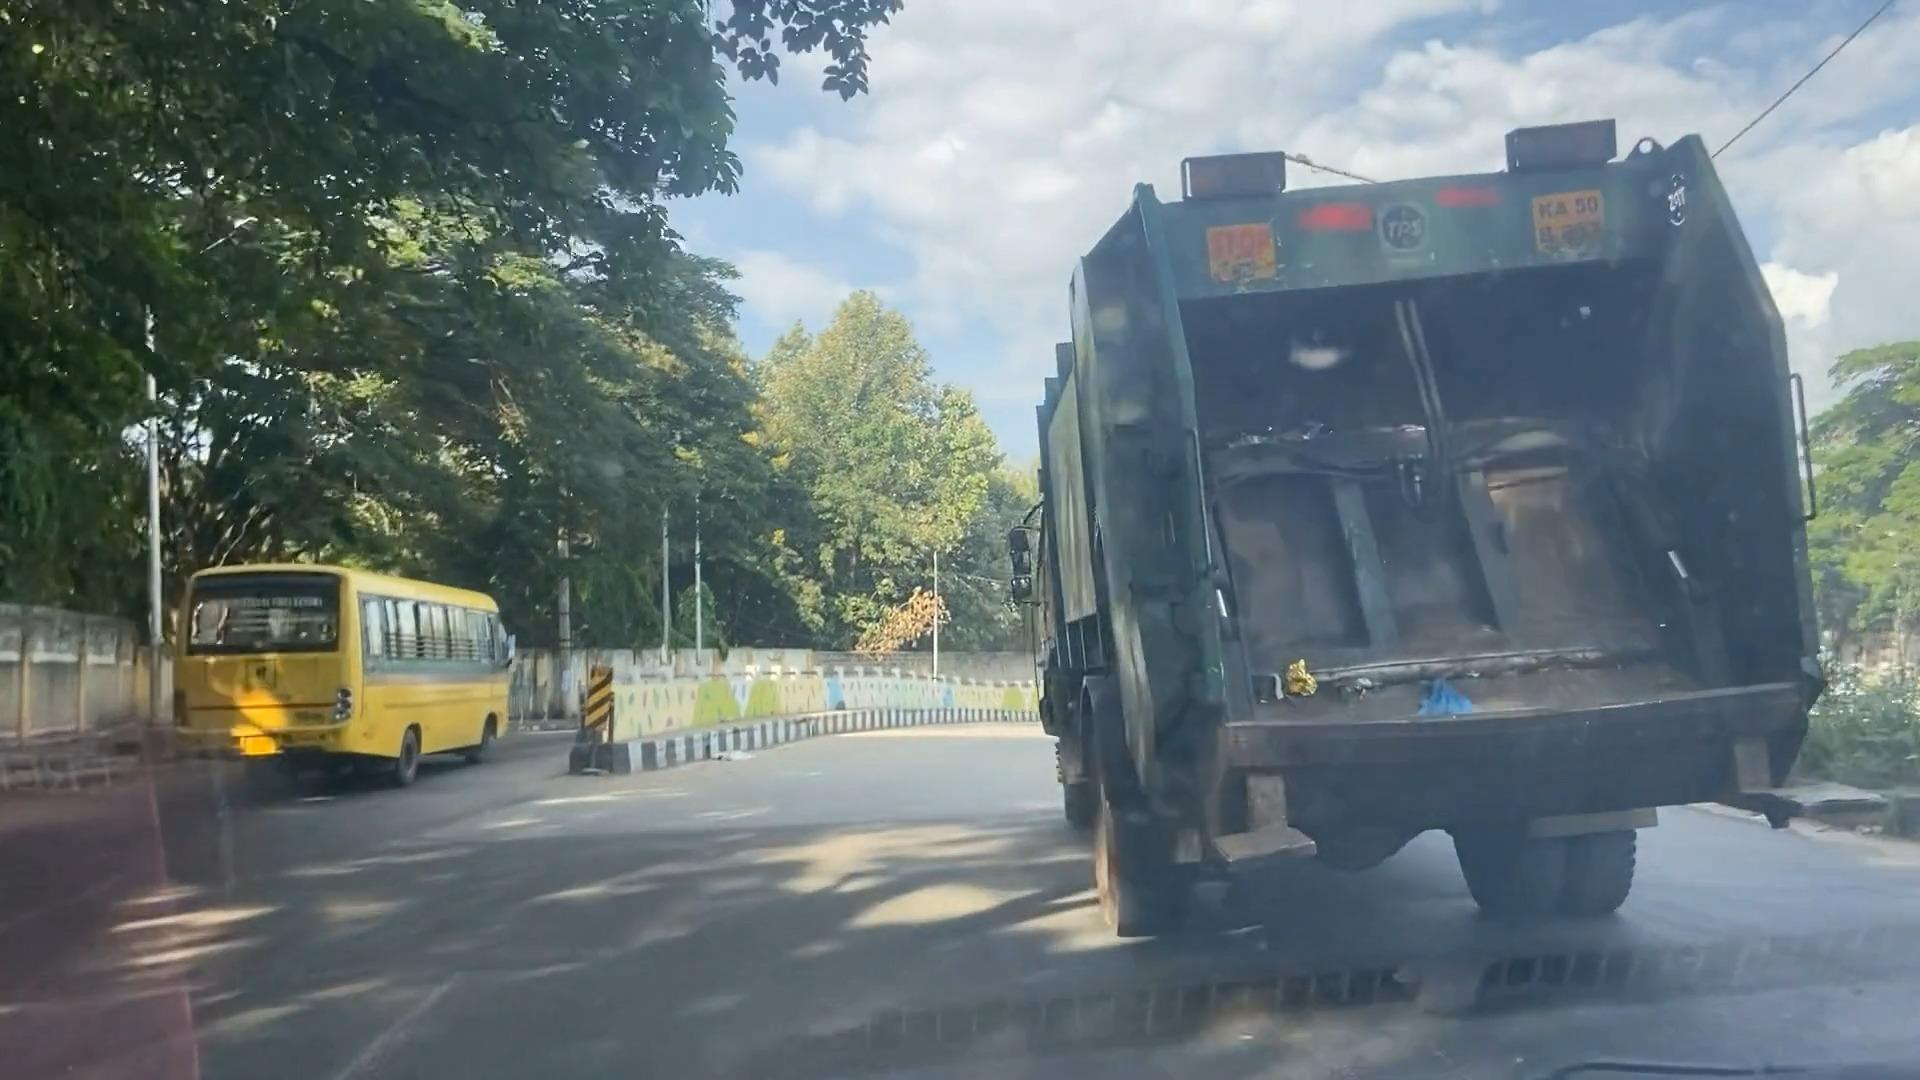HMV: (1040, 132, 1822, 918), (178, 560, 517, 769)
RoadDamages: (342, 913, 521, 1080), (12, 843, 171, 938)
